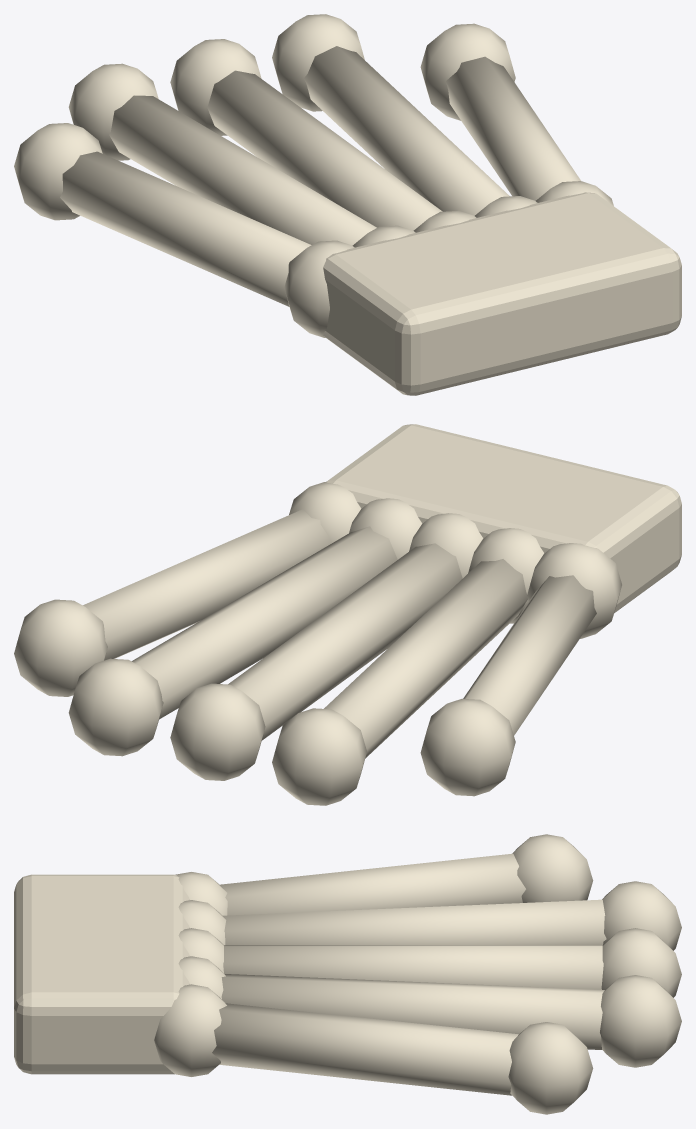
The model's file is bone_item_hand_bones.glb.
3 views of the same model, one above another, from view 1: azimuth 30°, elevation 25°; view 2: azimuth 150°, elevation 25°; view 3: azimuth 270°, elevation 25° (orthographic). The views are drawn at different scales.
Visible parts, largest first — view 1: GD_bone_item_hand_bones__m0; view 2: GD_bone_item_hand_bones__m0; view 3: GD_bone_item_hand_bones__m0.
Part boxes in pixels (<box>): GD_bone_item_hand_bones__m0: <box>14,14,681,395</box>; GD_bone_item_hand_bones__m0: <box>14,424,681,805</box>; GD_bone_item_hand_bones__m0: <box>14,834,681,1114</box>.
Size of the model in its own units: 0.121 by 0.021 by 0.1505.
